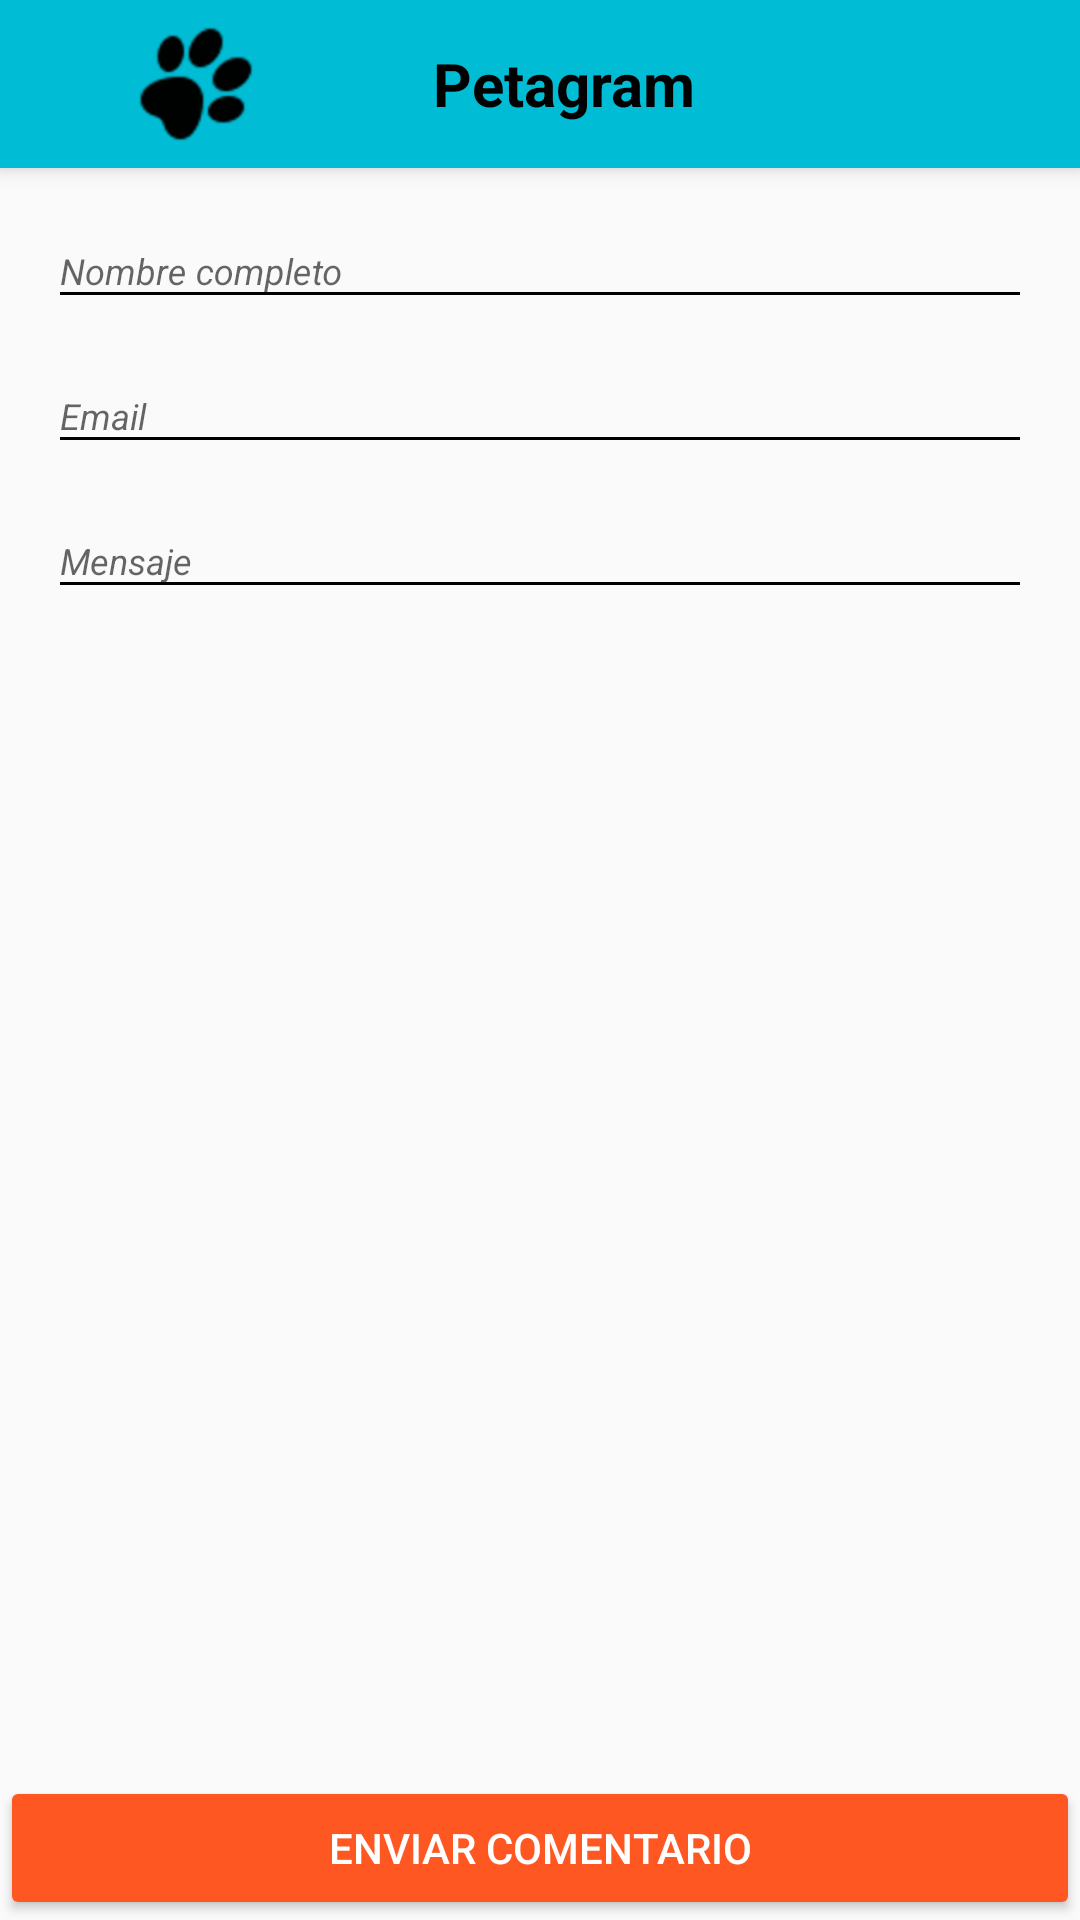

Screen size 1080 x 1920. Icon name, then its box in pixels as (x1, y1, x2, y2):
pet: (140, 28, 252, 140)
